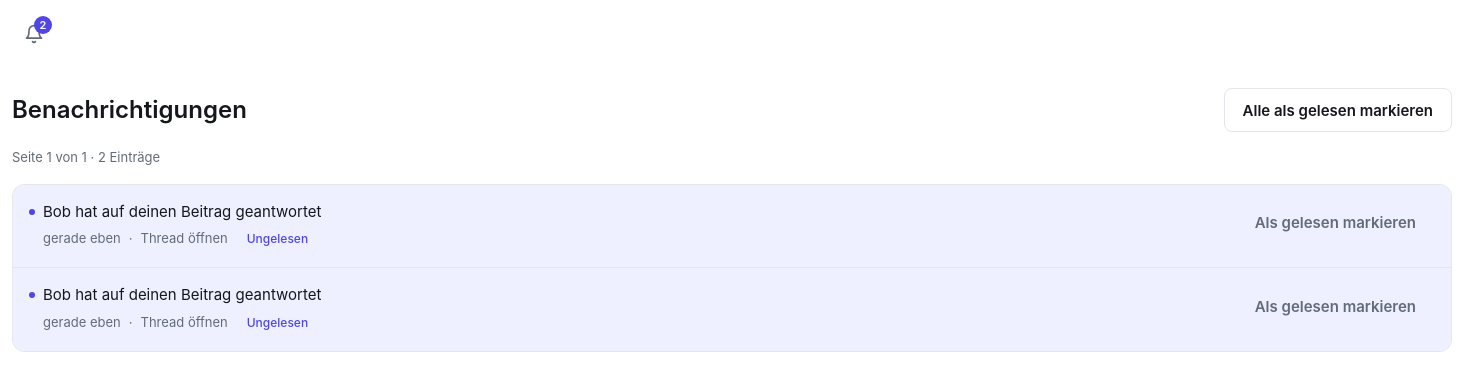
it: NotificationsPage › sets the unread count to zero on 'Alle als gelesen markieren'
Expected: the button named "Benachrichtigungen, 2 ungelesen" is shown, x1=12 y1=12 x2=56 y2=56
Click the button "Alle als gelesen markieren" at (1338, 110), box x1=1224 y1=88 x2=1452 y2=132
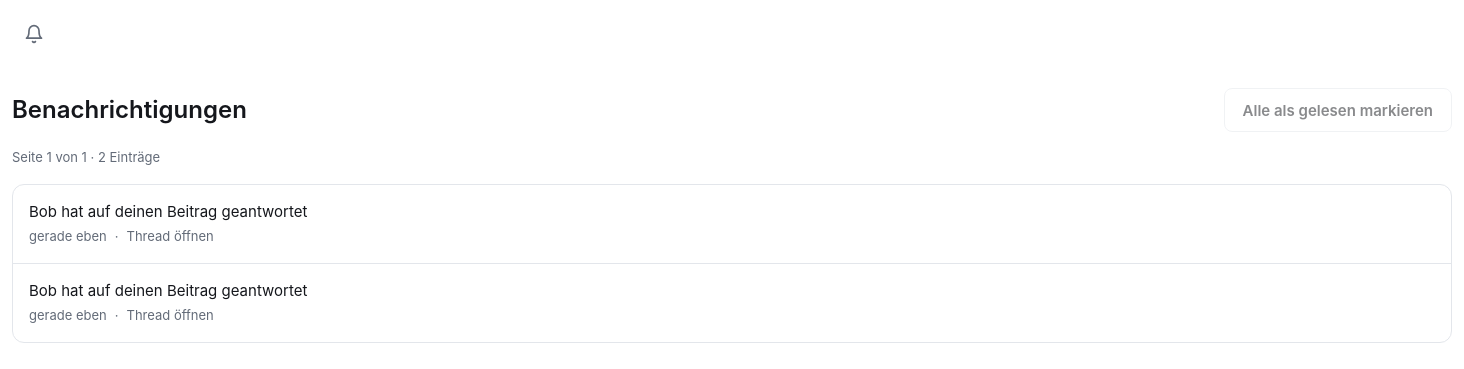
Expected: the text with test id "notification-badge" is gone
Expected: the text "Ungelesen" is gone
